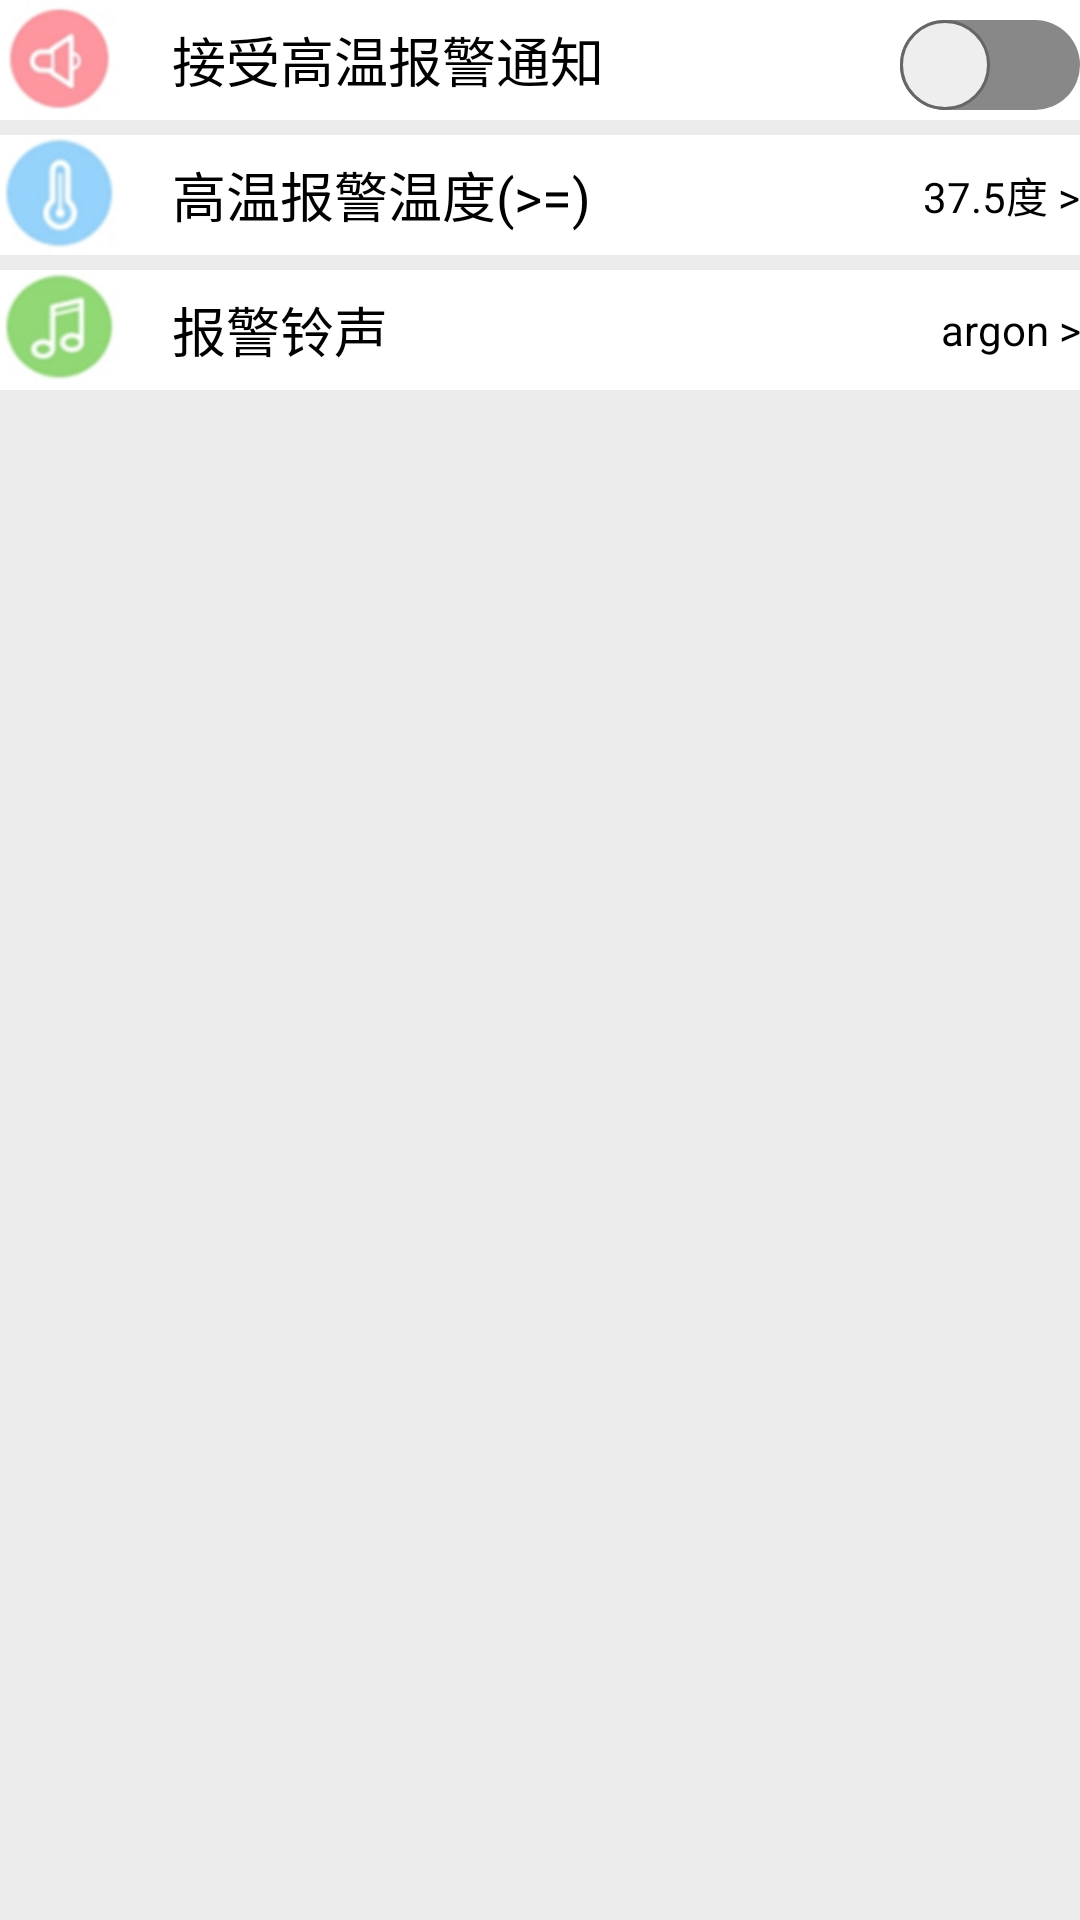

Where to tap for icons on this 1080×1920 app screen, as (x,y):
alarm inform: (59,59)
alarm music: (59,326)
